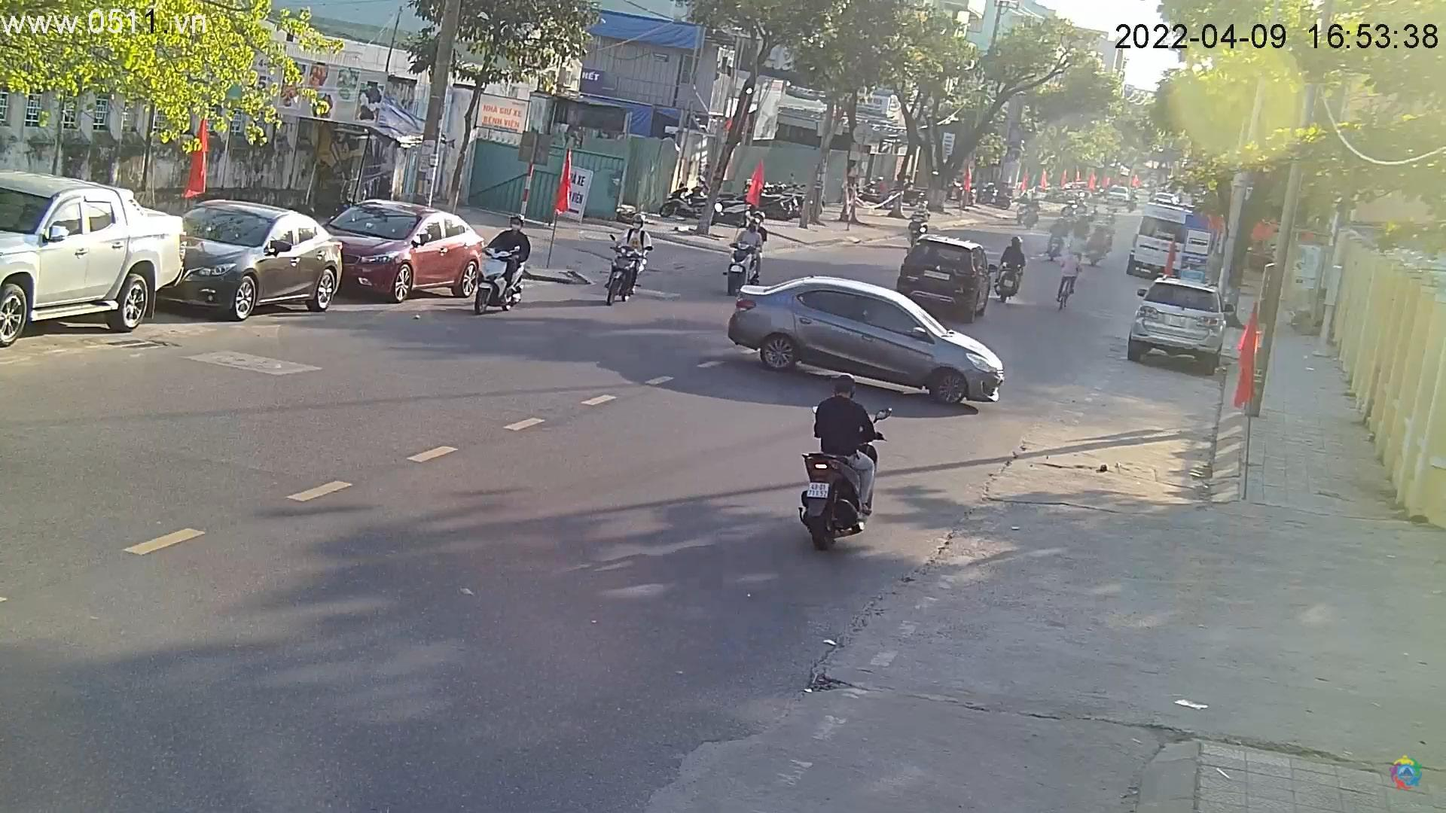car: (2, 171, 186, 352), (163, 201, 351, 322), (319, 198, 492, 304)
motorbike: (462, 236, 536, 321), (601, 232, 649, 312), (720, 238, 763, 303)
